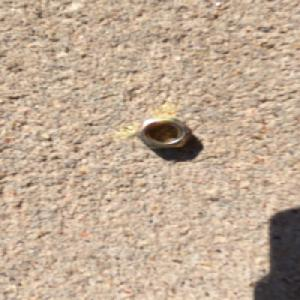Nut: (135, 116, 194, 150)
